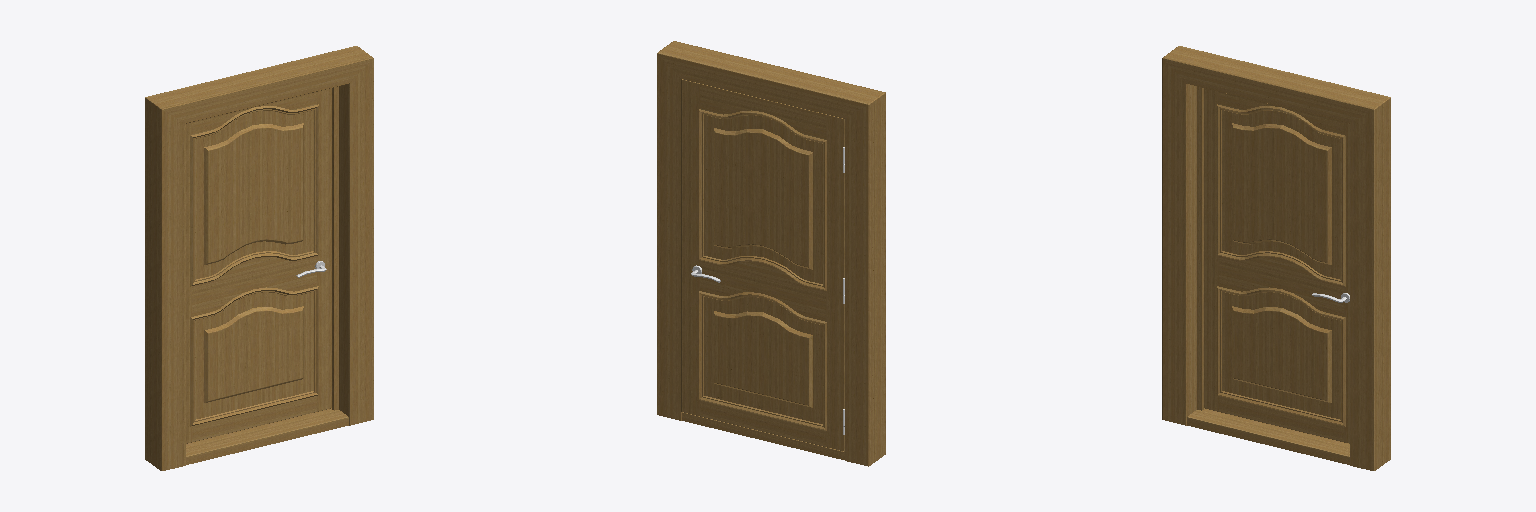
3 renders of one model, left to right at view 1: azimuth 30°, elevation 25°; view 2: azimuth 150°, elevation 25°; view 3: azimuth 330°, elevation 25°, orthographic.
Bounding box in the file's own units: 1.3 × 2.12 × 0.2504.
Materials: 3 (2 with a texture image).